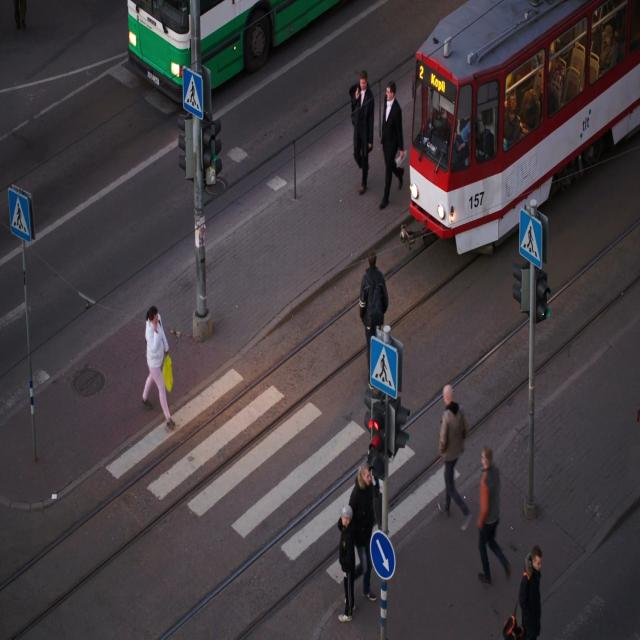pedestrian: (478, 446, 510, 583), (439, 385, 470, 524), (143, 306, 174, 427), (381, 81, 405, 198), (352, 71, 374, 193), (534, 546, 541, 568)
